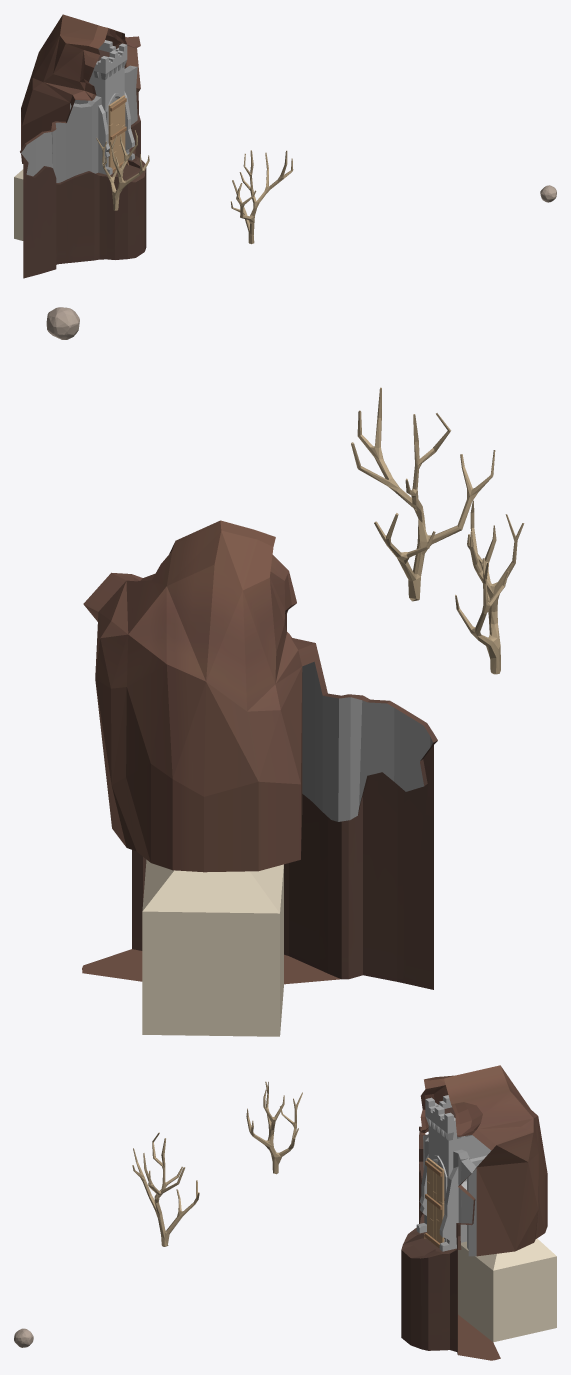
Rendered from Exit-Cave.fbx.
The picture shows the model from 3 angles, top to bottom: view 1: azimuth 30°, elevation 25°; view 2: azimuth 150°, elevation 25°; view 3: azimuth 270°, elevation 25°; orthographic projection. The views are drawn at different scales.
Visible parts, largest first — view 1: ExitGateBridge.003, ExitGateBridge.002, TreeB, TreeA, ExitGateBridge; view 2: ExitGateBridge.003, ExitGateBridge.002, TreeB, TreeA, Stone; view 3: ExitGateBridge.003, ExitGateBridge.002, TreeB, TreeA, ExitGateBridge.
Part boxes in pixels (<box>): ExitGateBridge.003: <box>20,14,146,278</box>; ExitGateBridge.002: <box>14,40,137,240</box>; TreeB: <box>230,150,293,244</box>; TreeA: <box>96,130,149,210</box>; ExitGateBridge: <box>112,95,125,167</box>; ExitGateBridge.003: <box>82,520,437,989</box>; ExitGateBridge.002: <box>142,661,432,1036</box>; TreeB: <box>351,387,495,601</box>; TreeA: <box>455,500,524,674</box>; Stone: <box>46,307,79,339</box>; ExitGateBridge.003: <box>401,1065,547,1360</box>; ExitGateBridge.002: <box>416,1095,556,1342</box>; TreeB: <box>132,1132,199,1246</box>; TreeA: <box>246,1081,302,1174</box>; ExitGateBridge: <box>430,1160,444,1243</box>.
Size of the model in its own units: 61.98 by 35.74 by 68.69.
Materials: 4 (3 with a texture image).
